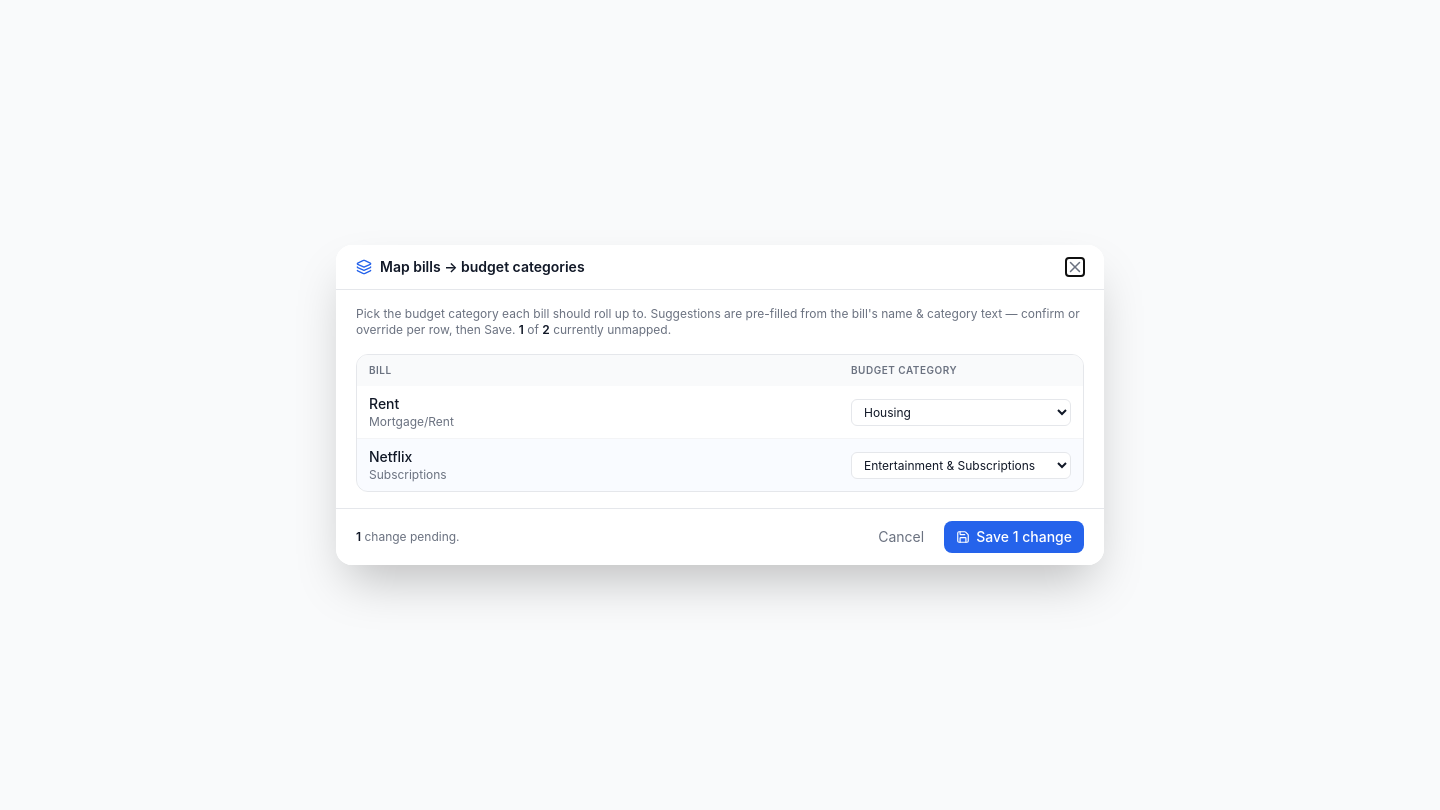
Test: <BillsBudgetMappingDialog> › Save button label reflects the count of changed rows
Expected: the button "Save 1 change" is shown, [944, 521, 1084, 553]
Note: Override Rent to Transportation → 2 changes pending.
Select "Transportation" in the dropdown named "Budget category for Rent" at x=961, y=412, box [851, 398, 1071, 426]
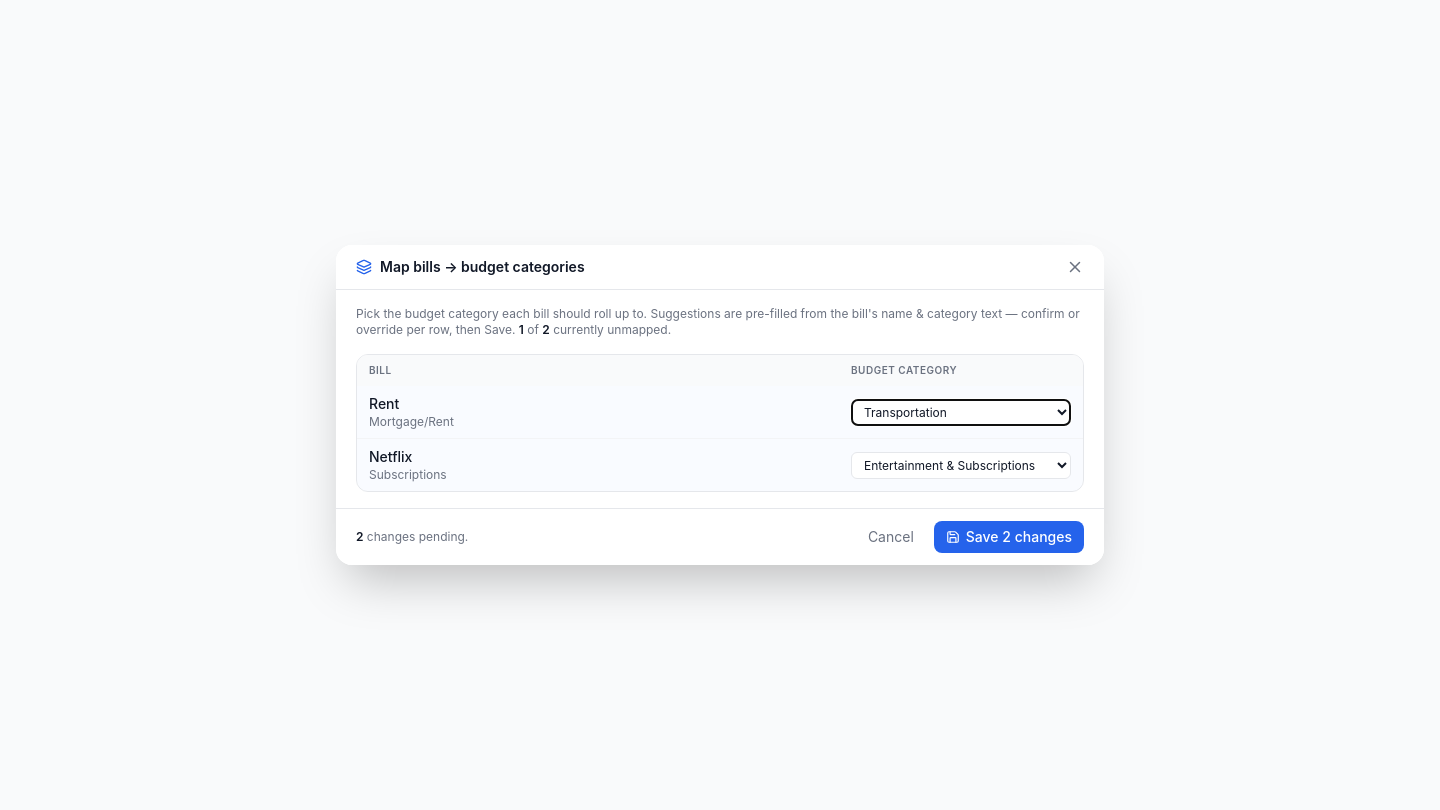
Expected: the button "Save 2 changes" is shown, [934, 521, 1084, 553]
